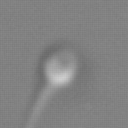normal: (20, 83, 53, 128)
